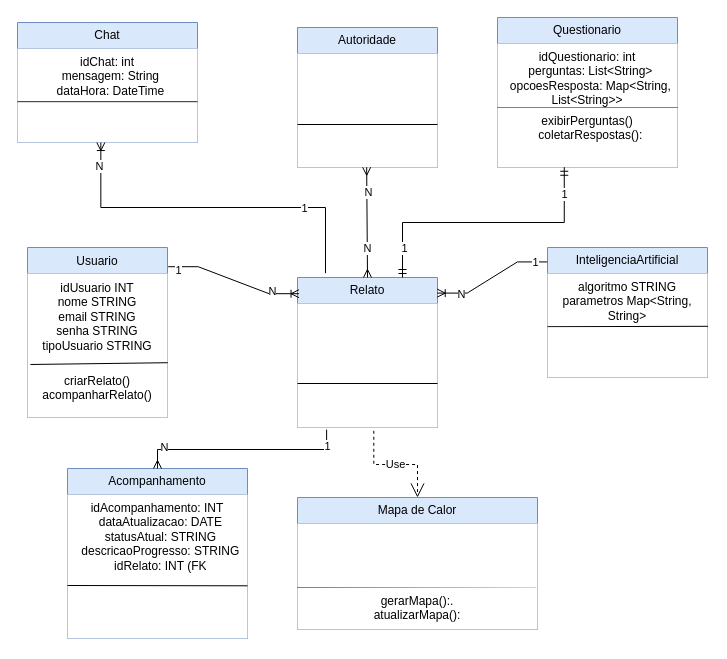
This 727x659 diagram has some shape labels left out. Here are the shapes that lost their labels. From the top down, the centre of each, then its label:
At point (367, 90): "idAutoridade: INT nome: STRING orgao: STRING emailContato: STRING".
At point (107, 122): "enviarMensagem() receberMensagem()".
At point (367, 147): "receberRelato() atualizarStatusRelato()".
At point (367, 345): "idRelato INT dataCriacao DATE localizacao STRING categoria STRING status STRING".
At point (627, 352): "processarDados() gerarRelatorio()".
At point (367, 407): "adicionarDescricao() atualizarStatus()".
At point (417, 555): "idMapa: int coordenadasProblemas: List<String> dataAtualizacao: Date".
At point (157, 618): "atualizarProgresso() verHistorico()".
